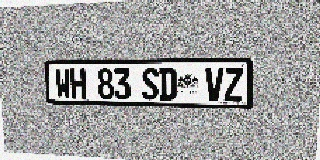3: (114, 68, 130, 100)
8: (97, 68, 114, 99)
D: (159, 68, 176, 100)
H: (70, 69, 86, 99)
S: (142, 68, 159, 100)
V: (205, 68, 224, 101)
W: (55, 69, 71, 99)
Z: (224, 67, 243, 101)
